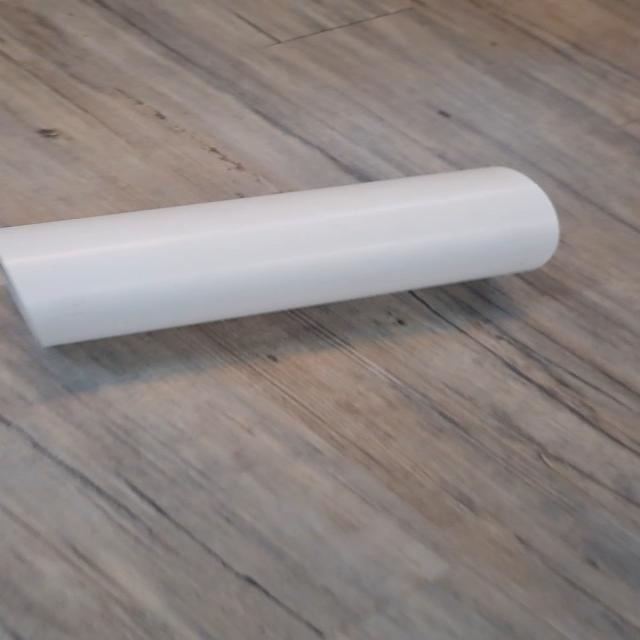CORAL: (0, 158, 565, 361)
